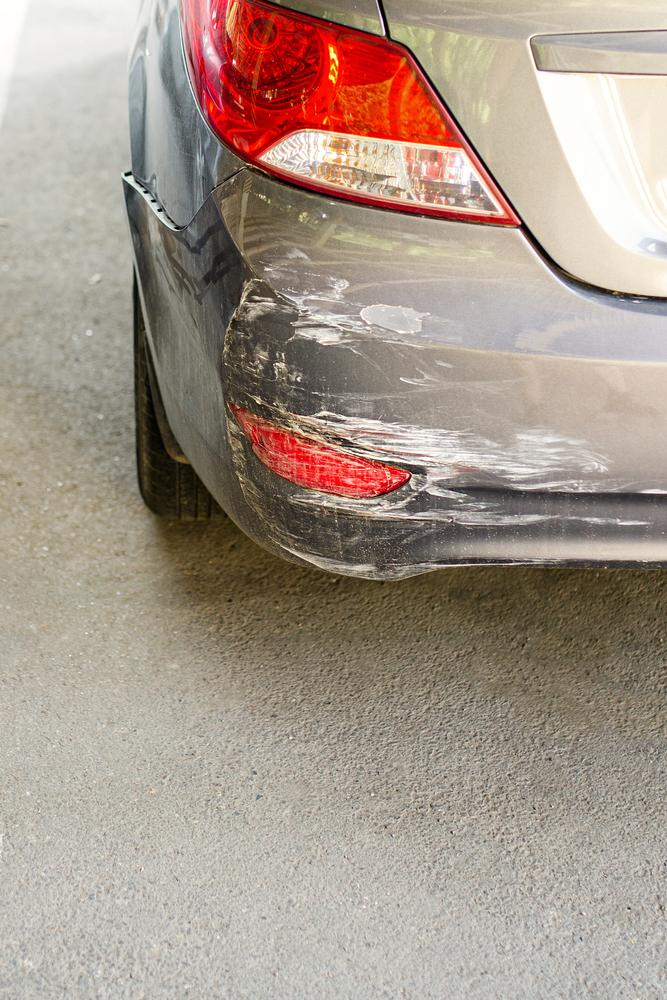scratch: (217, 248, 667, 587)
